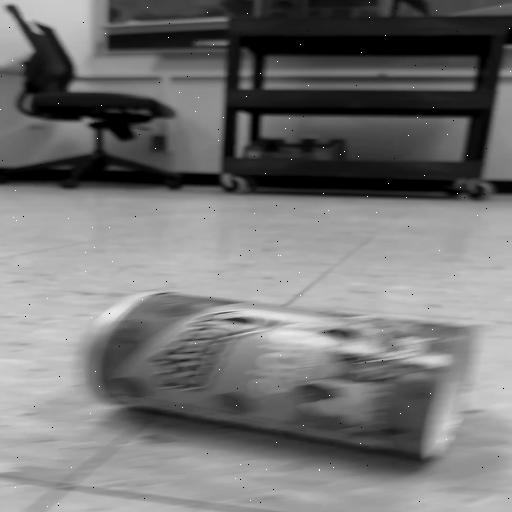pringles: (86, 292, 470, 458)
